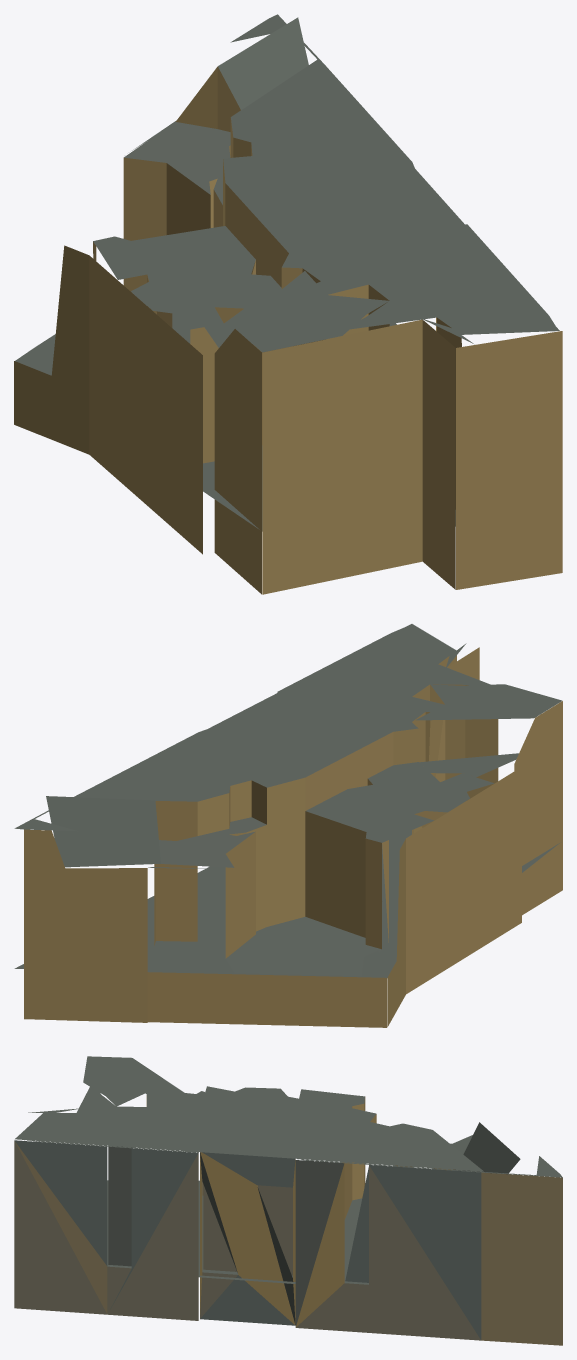
3 renders of one model, top to bottom at view 1: azimuth 30°, elevation 25°; view 2: azimuth 150°, elevation 25°; view 3: azimuth 270°, elevation 25°, orthographic. The views are drawn at different scales.
Visible parts, largest first — view 1: lod2; view 2: lod2; view 3: lod2.
Boxes of the visible parts, <box> form: lod2: <box>14,14,562,594</box>; lod2: <box>14,624,562,1027</box>; lod2: <box>14,1056,562,1345</box>.
Bounding box in the file's own units: 23.49 × 15.99 × 43.43.
